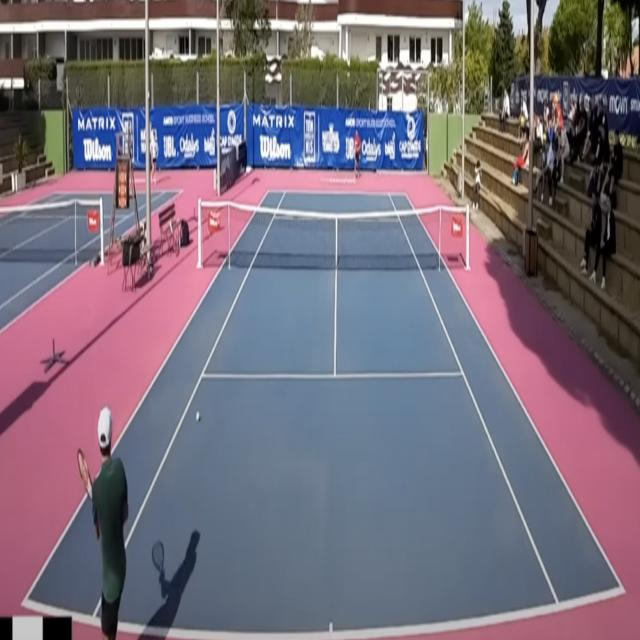ball: (196, 410, 200, 422)
